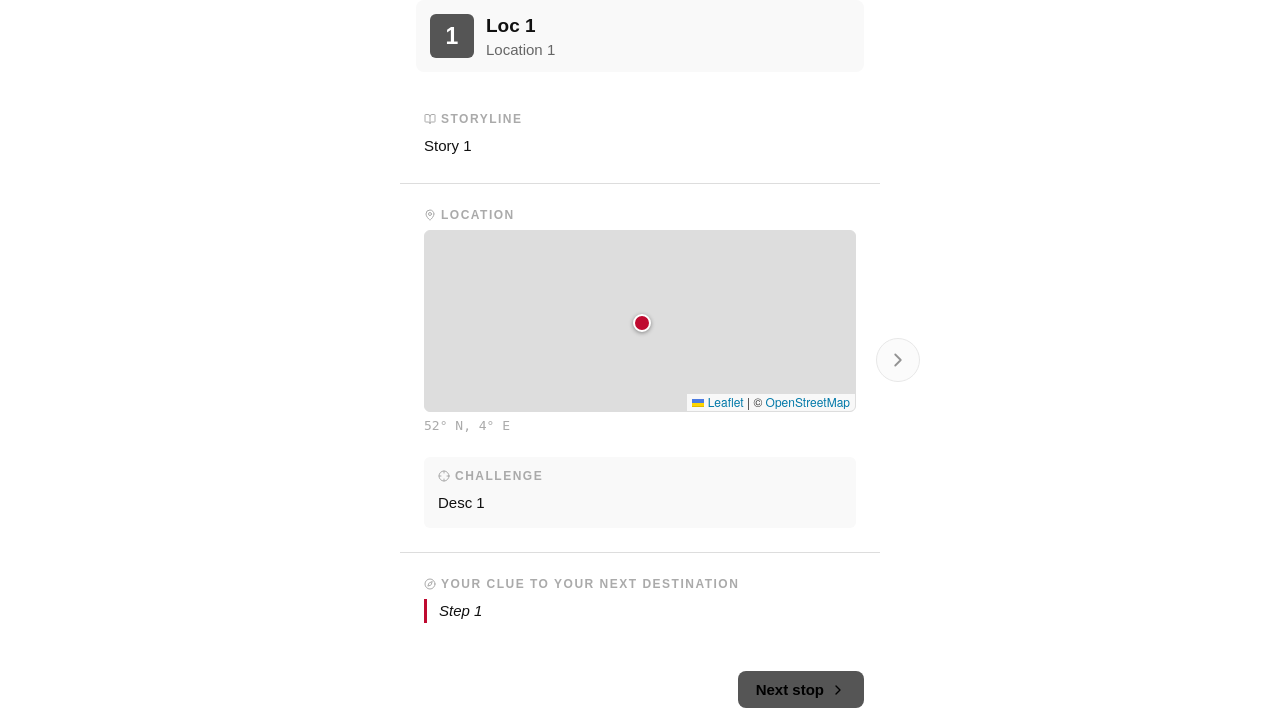
Test: counts only location entries in the progress indicator, holding steady through template screens
The image size is (1280, 720).
(page scrolled)
Check: the text "Location 1" is shown, box [486,41,555,58]
What coordinates should you click on to do the following:
click the button "Next stop"
I would click on:
 (801, 690)
Its box is [738,671,864,708].
(page scrolled)
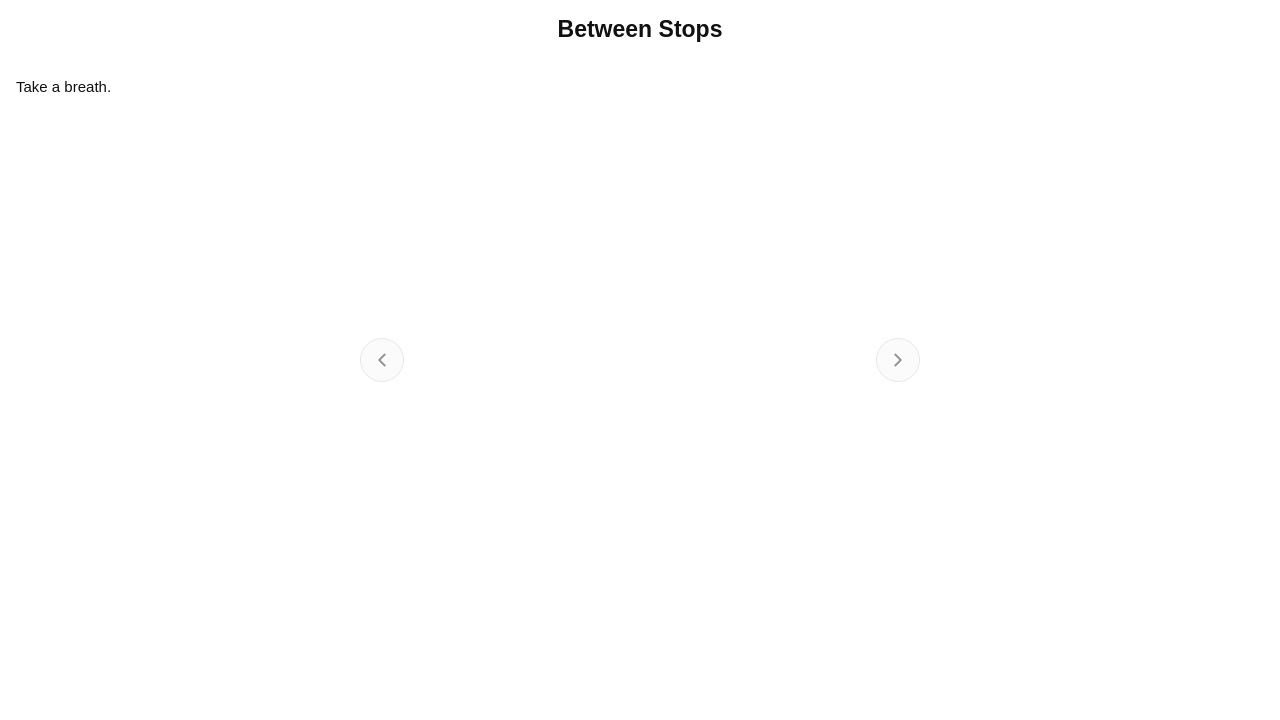
Check: the heading "Between Stops" is shown, box [558,16,722,42]
